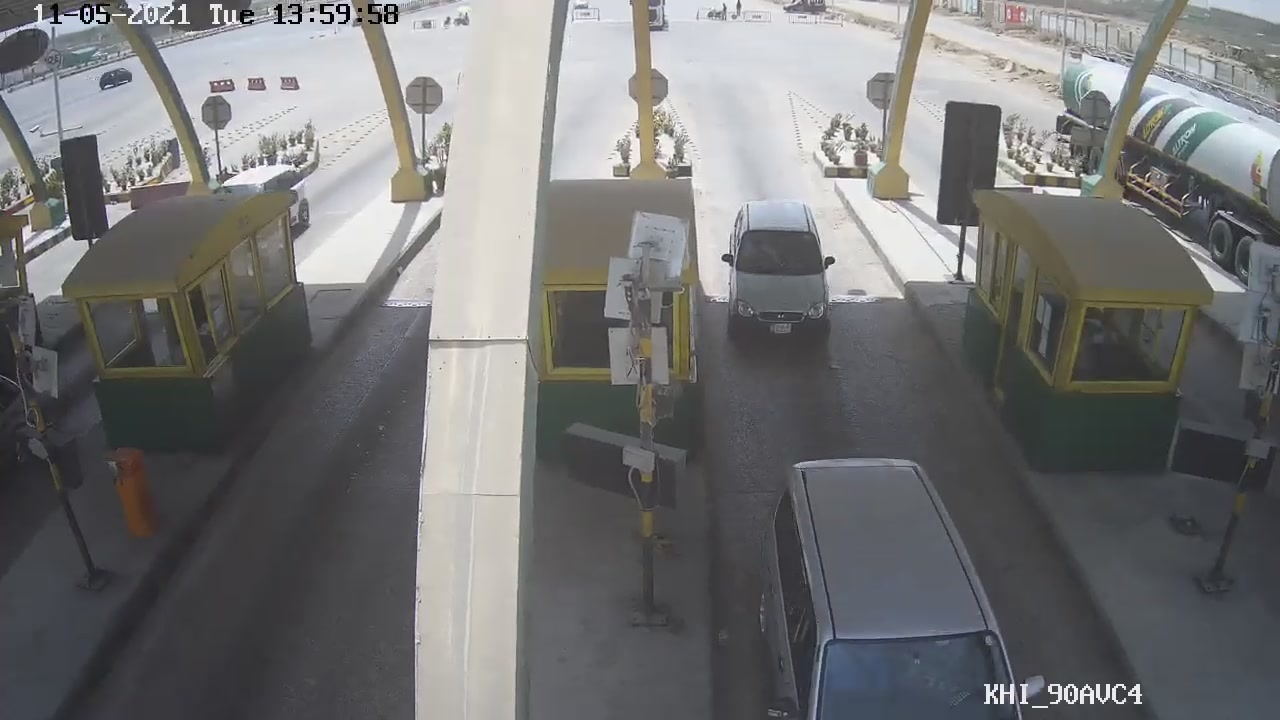F1: (716, 185, 843, 351)
